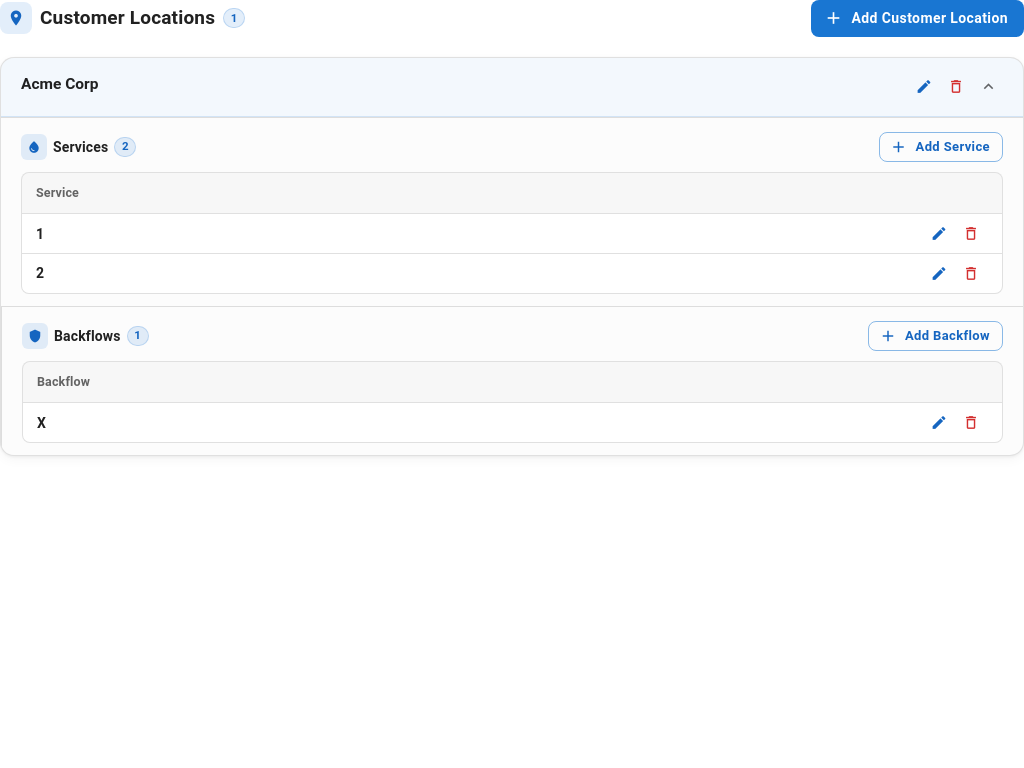
Test: collection control (via FormGenerator) › confirms before deleting and names the nested items it removes
The image size is (1024, 768).
Expected: the button "Acme Corp" is shown, x1=21 y1=74 x2=98 y2=95
Click the button named "Delete Acme Corp" at (956, 86), box x1=941 y1=72 x2=971 y2=102
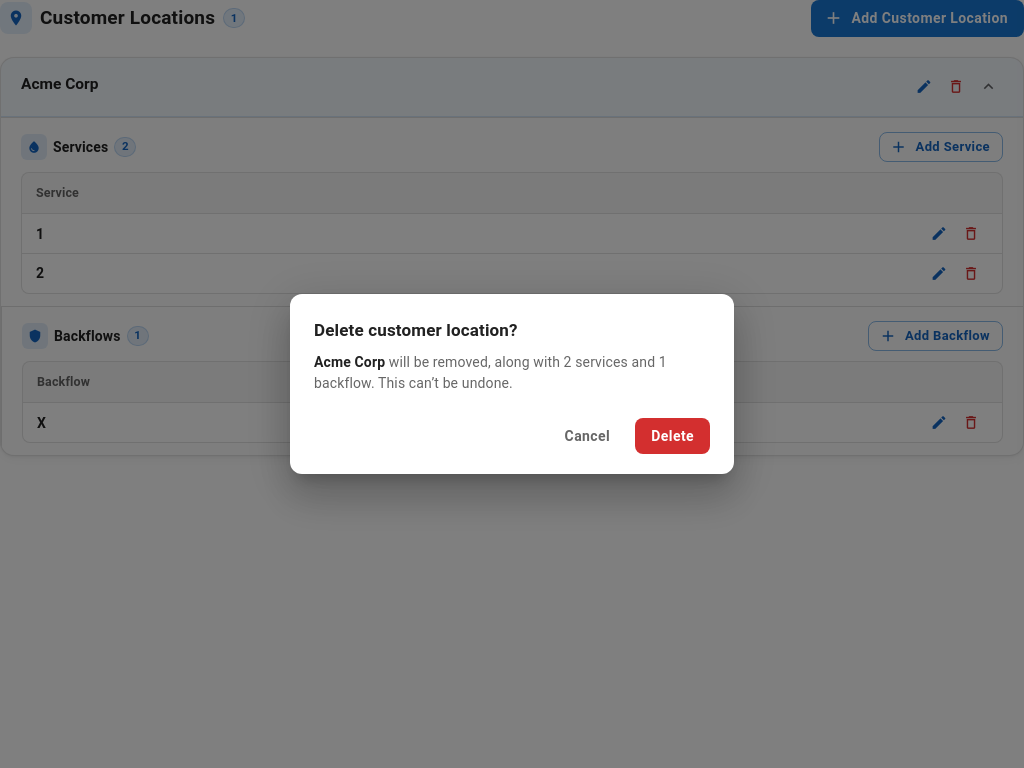
Expected: the text "along with 2 services and 1 backflow" is shown, x1=314 y1=354 x2=667 y2=390
Click the button "Delete" at (673, 436), box x1=635 y1=418 x2=710 y2=454
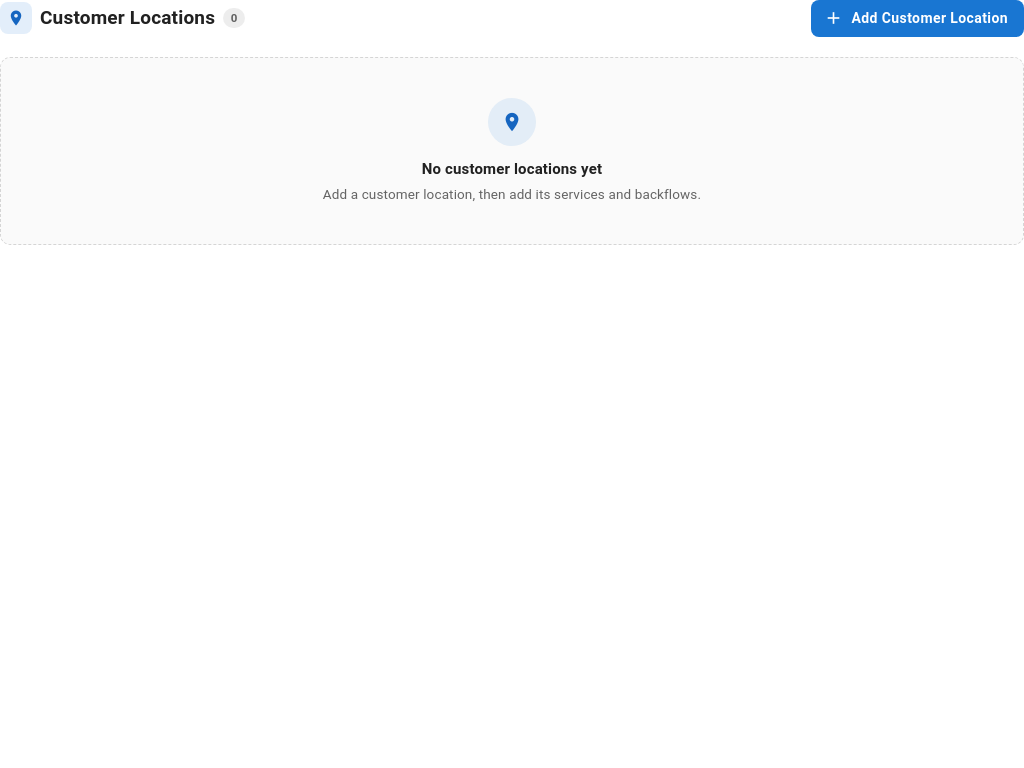
Expected: the button "Acme Corp" is gone
